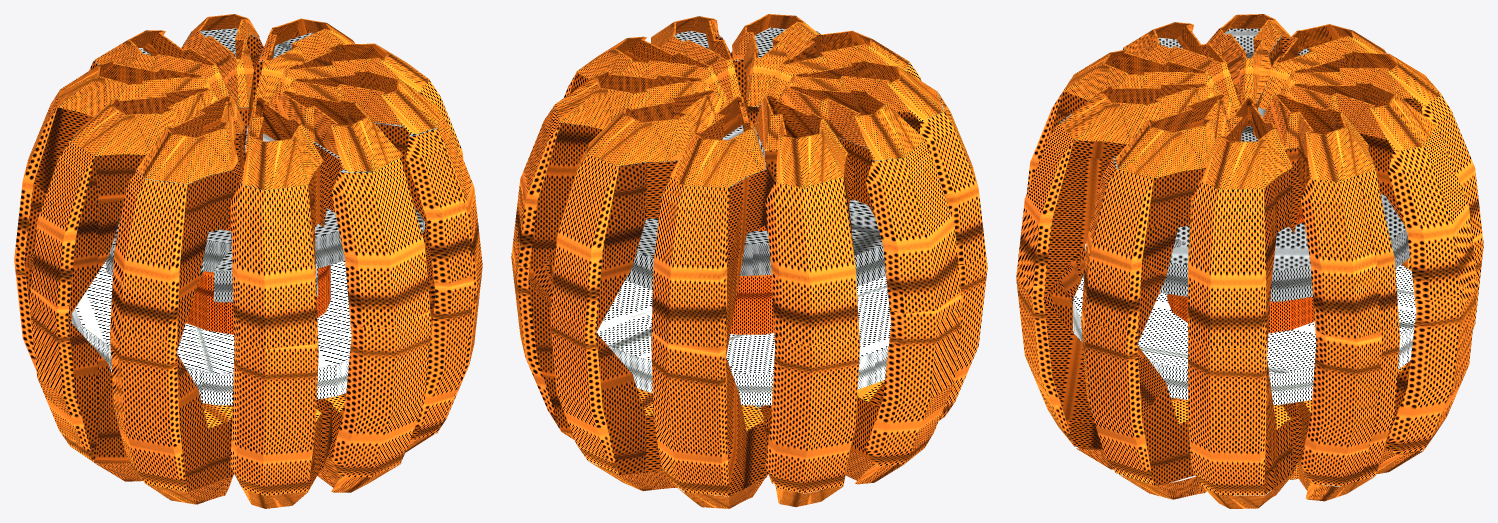
Rendered from RollingBalls_Sci-fi_2_3.glb.
The picture shows the model from 3 angles, left to right: view 1: azimuth 30°, elevation 25°; view 2: azimuth 150°, elevation 25°; view 3: azimuth 270°, elevation 25°; orthographic projection.
Visible parts, largest first — view 1: RollingBalls_Sci-fi_2_3; view 2: RollingBalls_Sci-fi_2_3; view 3: RollingBalls_Sci-fi_2_3.
Boxes of the visible parts, left/top/right/bottom form: RollingBalls_Sci-fi_2_3: left=14, top=14, right=482, bottom=508; RollingBalls_Sci-fi_2_3: left=511, top=14, right=987, bottom=508; RollingBalls_Sci-fi_2_3: left=1016, top=14, right=1483, bottom=508.
Size of the model in its own units: 1.64 by 1.41 by 1.64.
Materials: 3 (3 with a texture image).
